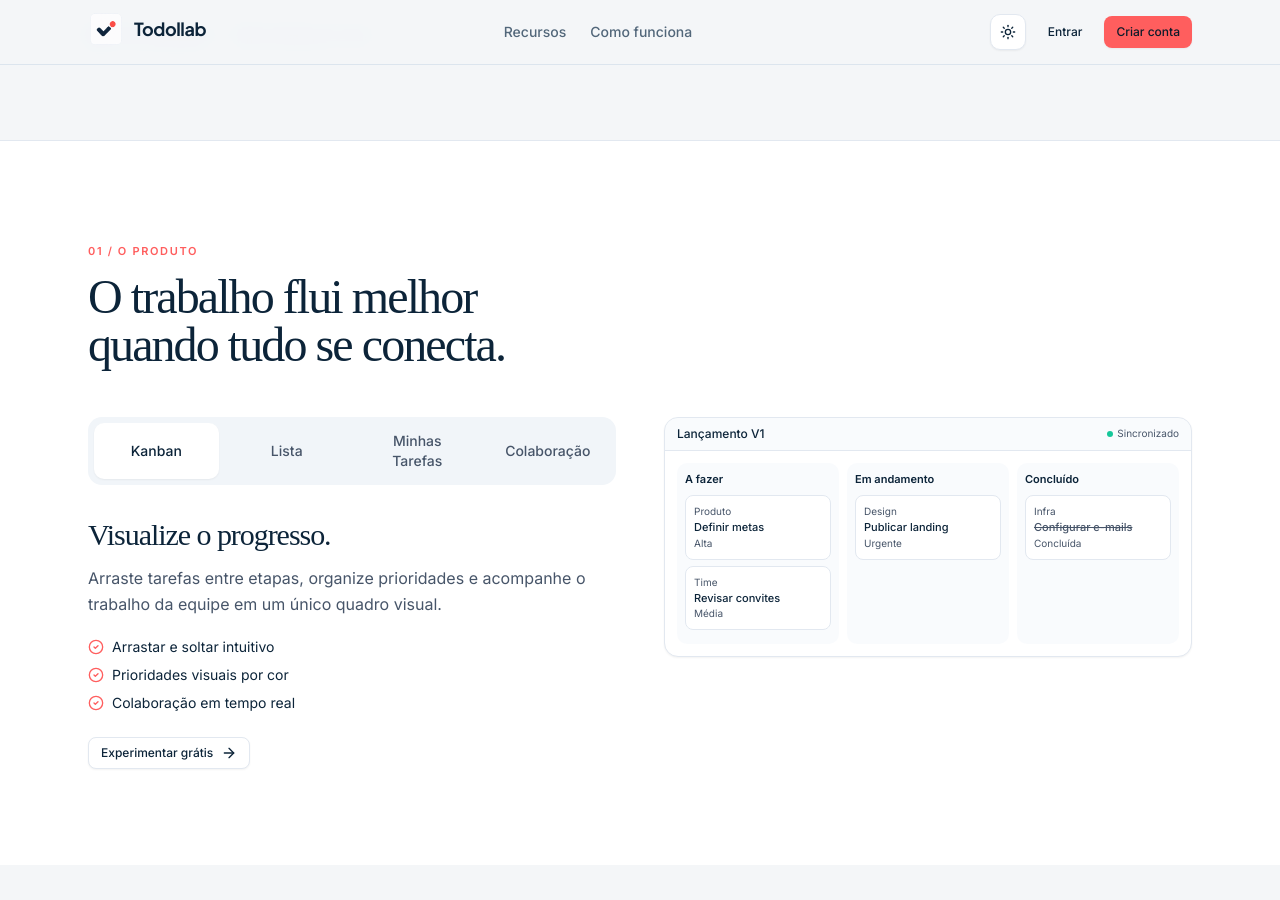
LandingPage › switchesFeatureTabsAndUpdatesVisualPreview
(page scrolled)
Expected: the heading "Visualize o progresso." is shown, [88, 518, 330, 551]
Click the tab "Lista": (287, 451) [224, 423, 349, 479]
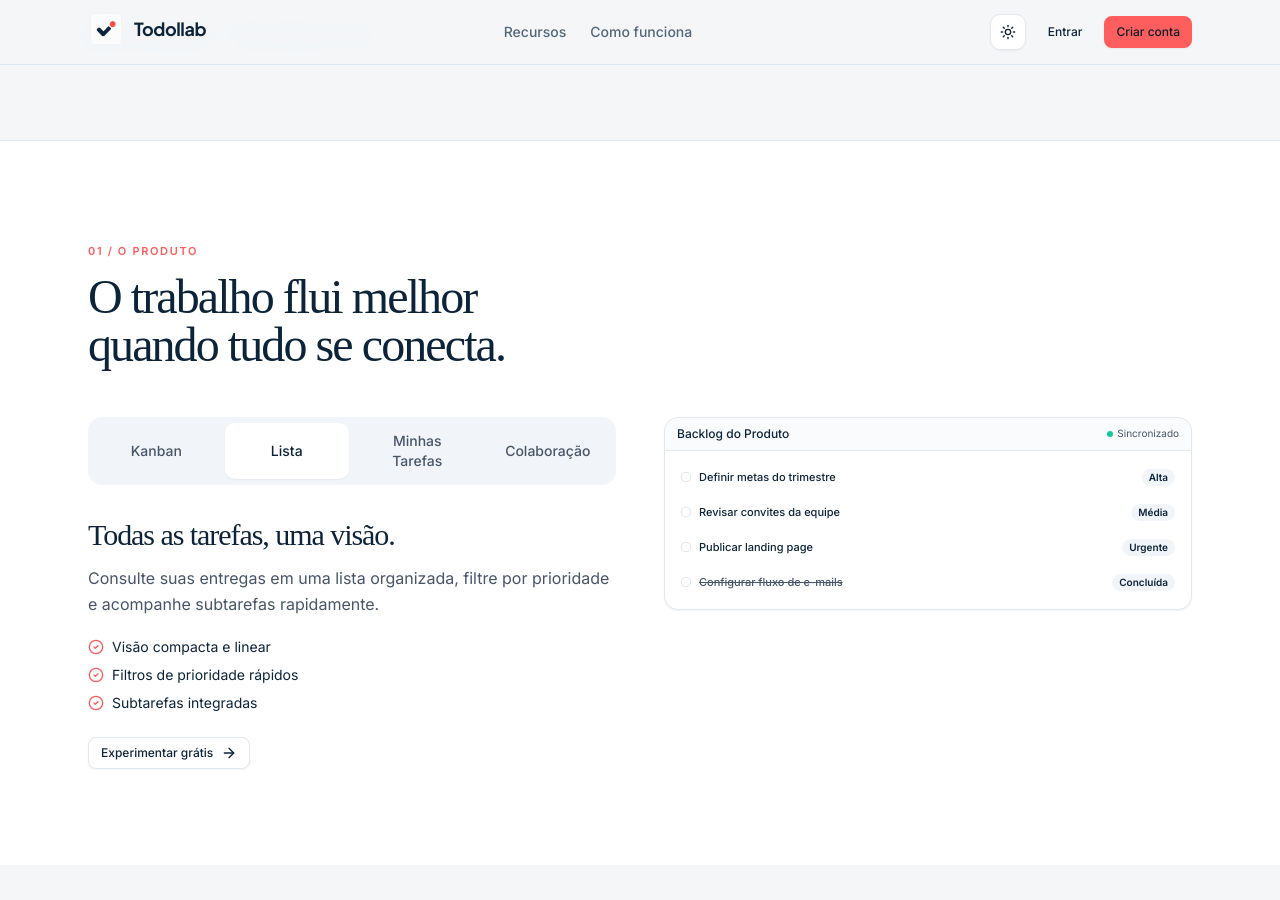
Expected: the heading "Todas as tarefas, uma visão." is shown, [88, 518, 395, 551]
Expected: the text "Backlog do Produto" is shown, [677, 426, 789, 442]
Click the tab "Minhas Tarefas": (417, 451) [355, 423, 480, 479]
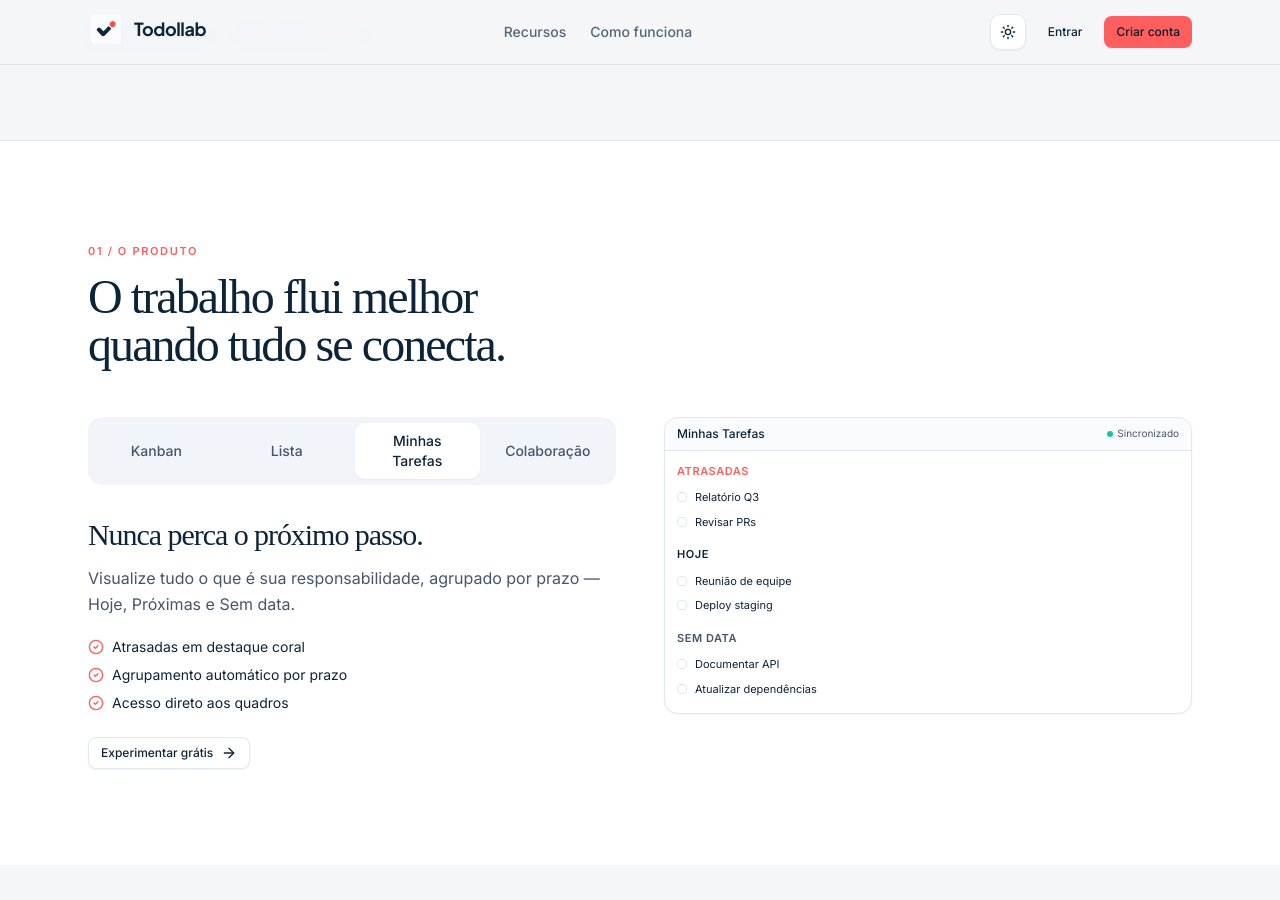
Expected: the heading "Nunca perca o próximo passo." is shown, [88, 518, 423, 551]
Expected: the text "Atrasadas" is shown, [677, 464, 749, 478]
Click the tab "Colaboração": (548, 451) [486, 423, 610, 479]
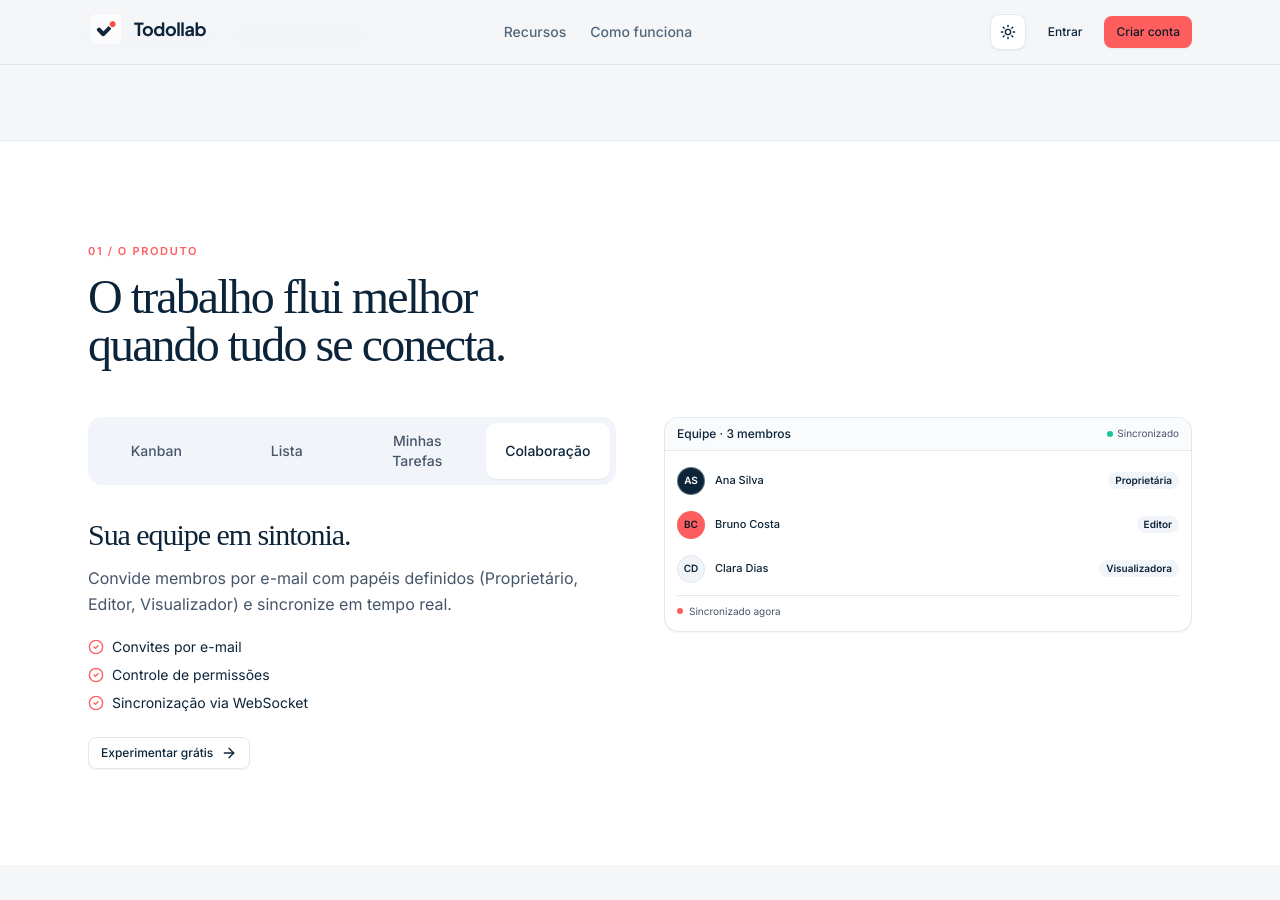
Expected: the heading "Sua equipe em sintonia." is shown, [88, 518, 350, 551]
Expected: the text "Equipe · 3 membros" is shown, [677, 426, 791, 442]
